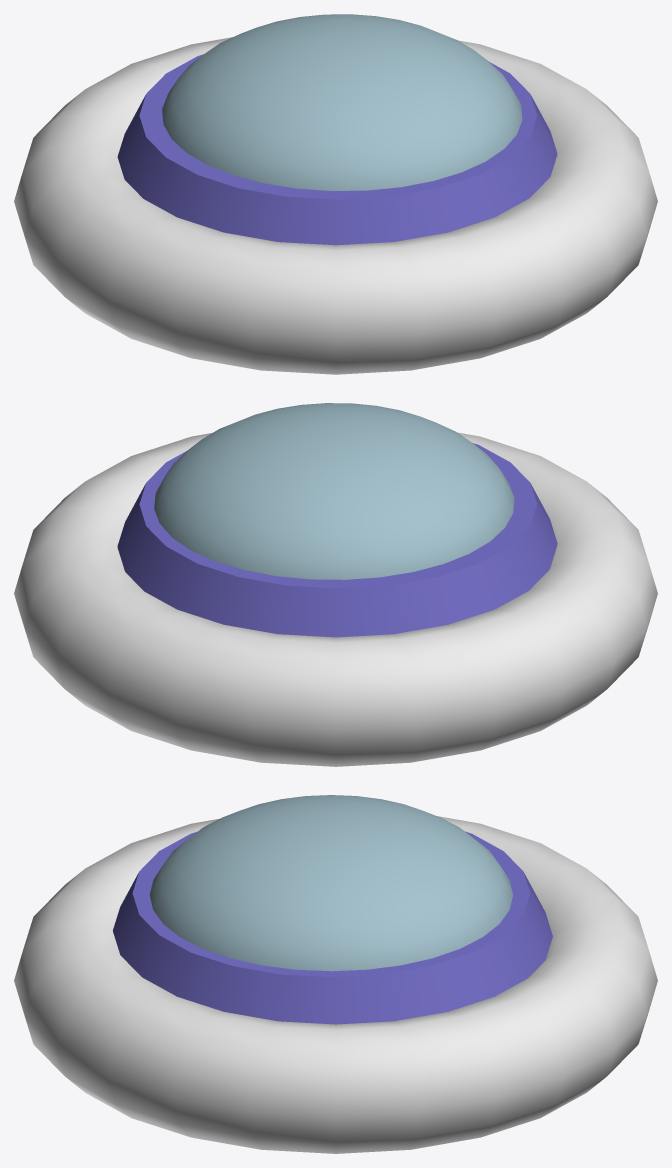
File: ship.FBX
The picture shows the model from 3 angles, top to bottom: view 1: azimuth 30°, elevation 25°; view 2: azimuth 150°, elevation 25°; view 3: azimuth 270°, elevation 25°; orthographic projection.
Parts seen in each view (by area): view 1: Torus01, Sphere01, Cone01; view 2: Torus01, Sphere01, Cone01; view 3: Torus01, Sphere01, Cone01.
Boxes of the visible parts, <box> form: Torus01: <box>14,37,657,374</box>; Sphere01: <box>162,14,522,190</box>; Cone01: <box>117,54,557,245</box>; Torus01: <box>14,432,657,766</box>; Sphere01: <box>154,403,514,579</box>; Cone01: <box>117,443,557,637</box>; Torus01: <box>14,816,657,1153</box>; Sphere01: <box>149,795,512,971</box>; Cone01: <box>113,831,552,1024</box>.
Bounding box in the file's own units: 25.9 × 9.64 × 25.9.
